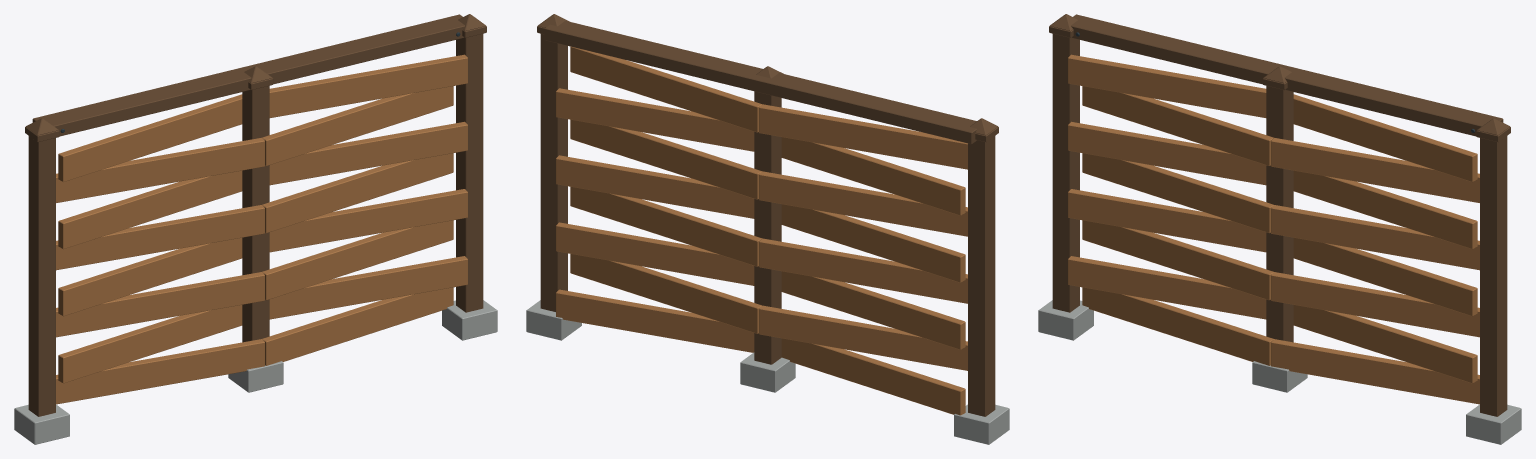
Rendered from b19_basketweave_timber_fence.glb.
3 renders of one model, left to right at view 1: azimuth 30°, elevation 25°; view 2: azimuth 150°, elevation 25°; view 3: azimuth 330°, elevation 25°, orthographic.
Parts seen in each view (by area): view 1: b19_basketweave_timber_fence; view 2: b19_basketweave_timber_fence; view 3: b19_basketweave_timber_fence.
Part boxes in pixels (x1,y1,x2,y2): b19_basketweave_timber_fence: [14, 14, 497, 444]; b19_basketweave_timber_fence: [526, 14, 1009, 444]; b19_basketweave_timber_fence: [1038, 14, 1521, 444].
Size of the model in its own units: 2.6 by 1.69 by 0.2.
